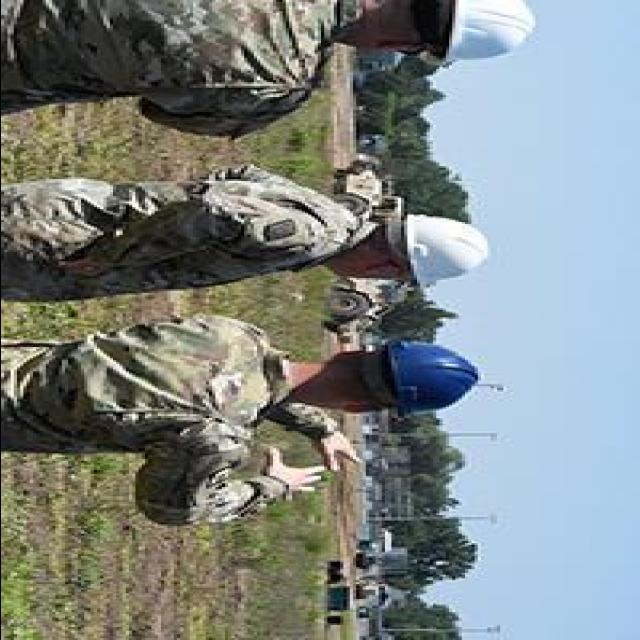helmet: (398, 210, 503, 296), (382, 336, 484, 420), (442, 0, 544, 67)
